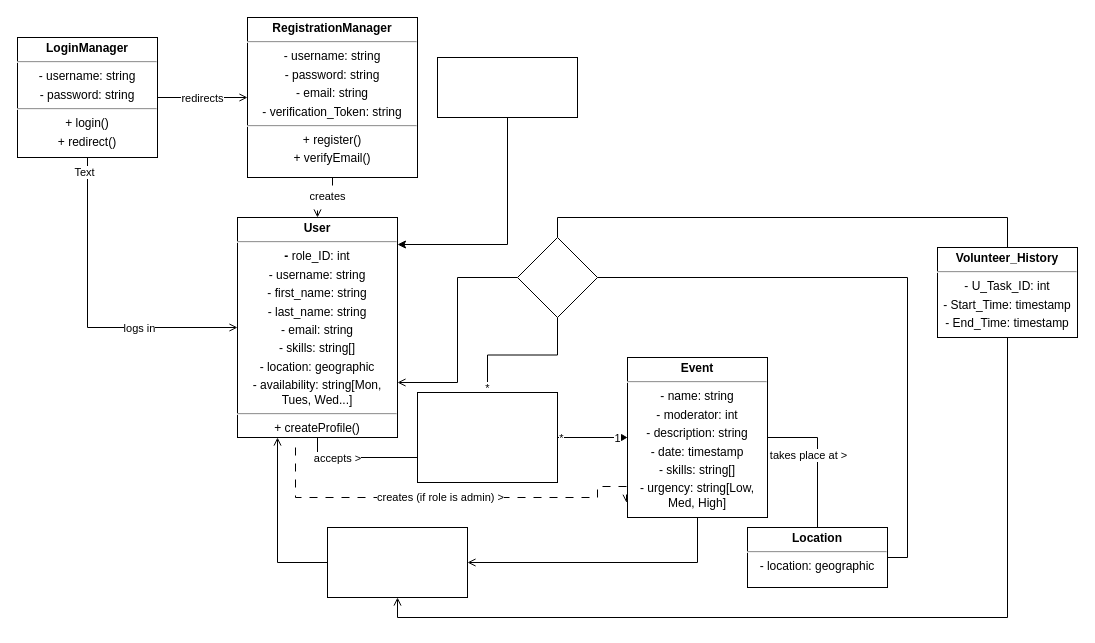
This 1095x643 diagram has some shape labels left out. The shapes that lost their labels are listed below. From the top down, each one's centre as x and y in pixels, then its label:
At [507,87]: "Role - role: string[Volunteer, Admin]".
At [487,437]: "Task - Event_ID: int - Task_ID: int - Skill: string[]".
At [397,562]: "Matcher + matchVoltoEvent() + suggestEvent()".
